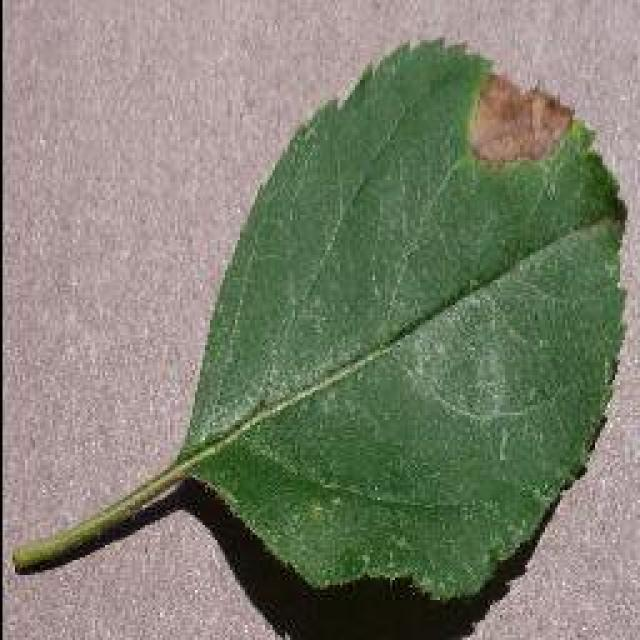Black_rot: (10, 32, 628, 602)
